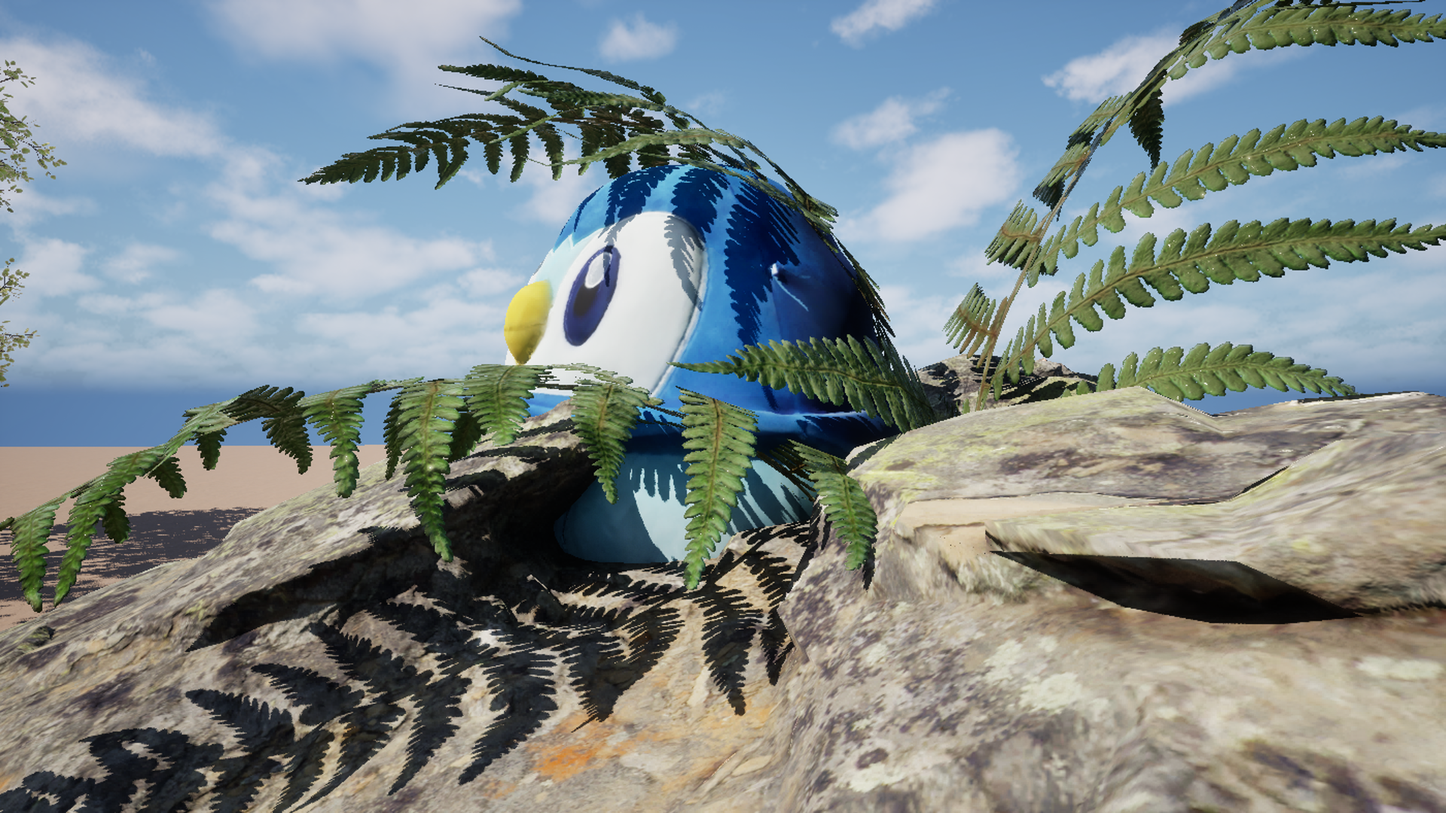Piplup: (263, 0, 1223, 813)
